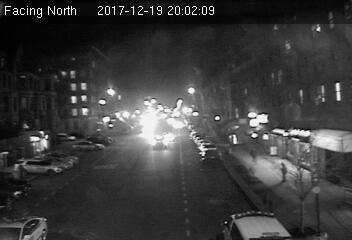car: (151, 135, 169, 149)
police: (219, 211, 291, 240)
